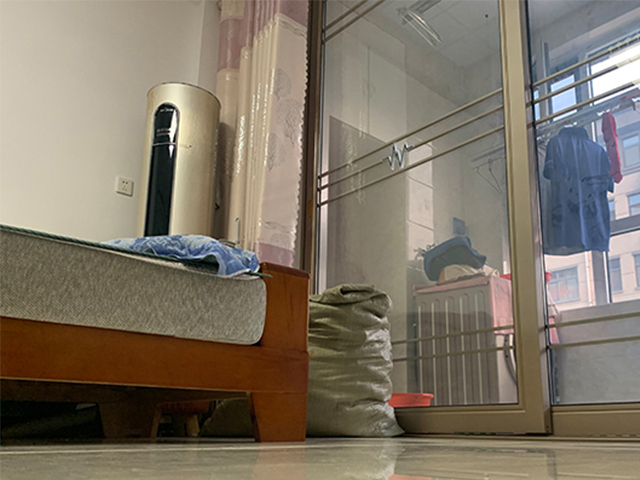curtain: (219, 1, 311, 265)
sofa: (1, 222, 310, 443)
